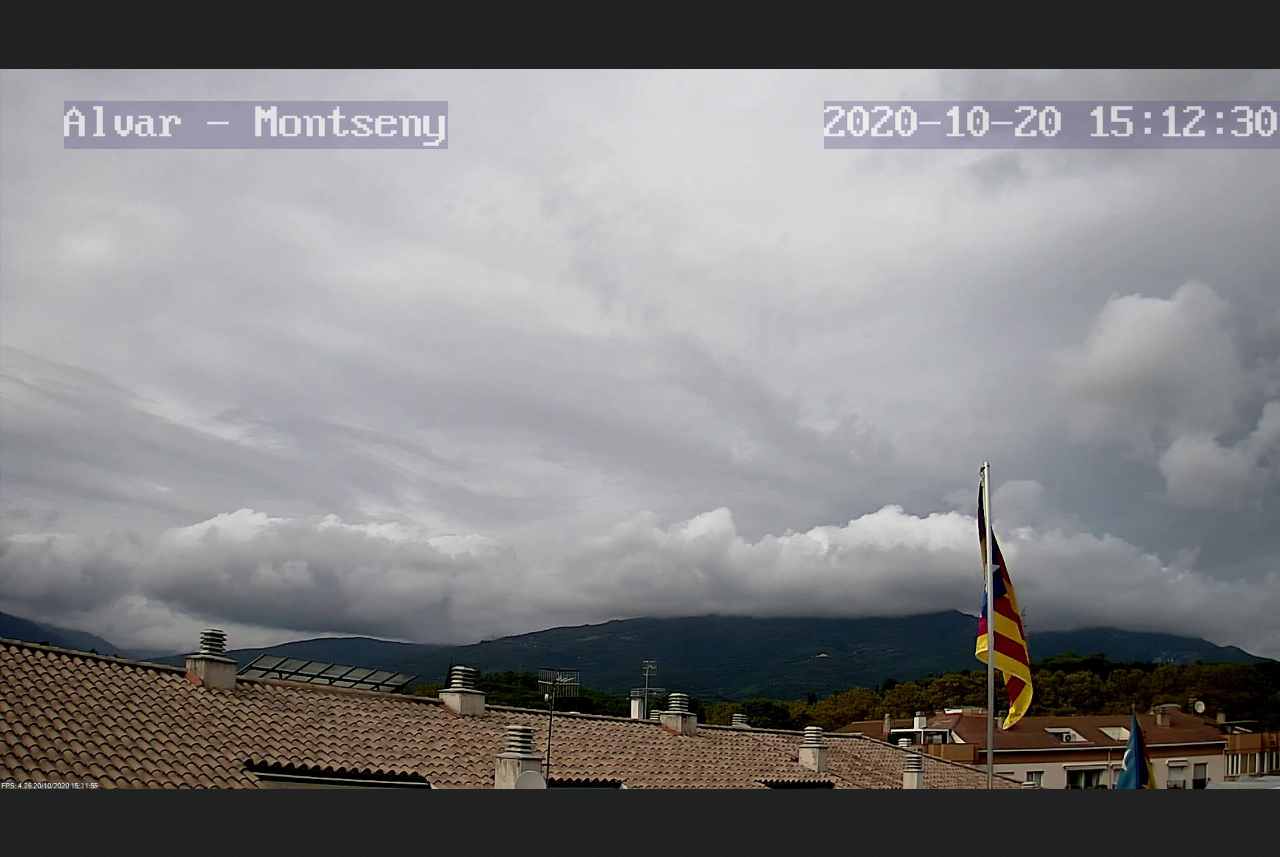no: (963, 469, 1044, 734)
